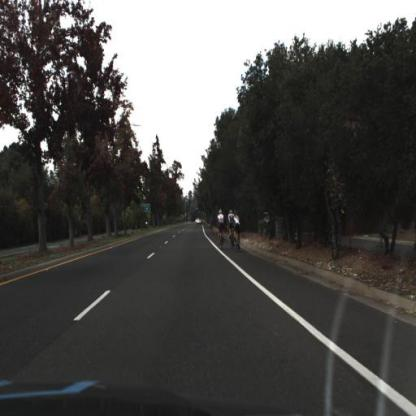biker: (216, 208, 226, 252), (228, 211, 236, 251), (234, 211, 242, 251), (210, 215, 213, 231)
